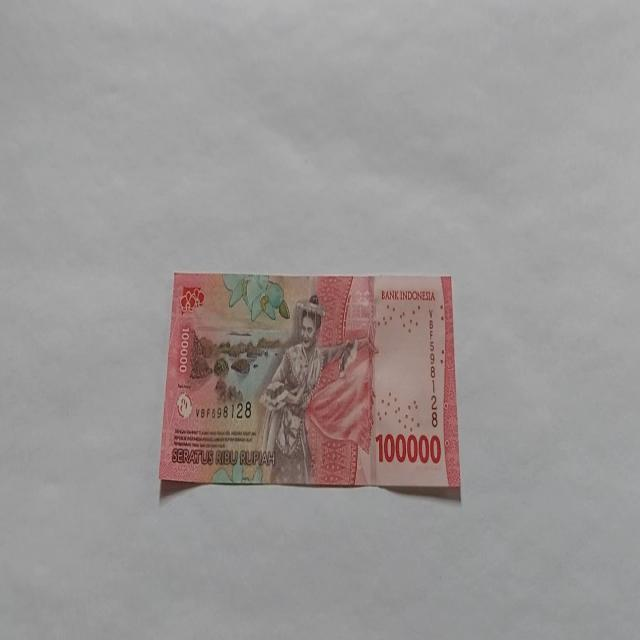seratus ribu rupiah: (157, 271, 460, 493), (255, 294, 359, 486)
